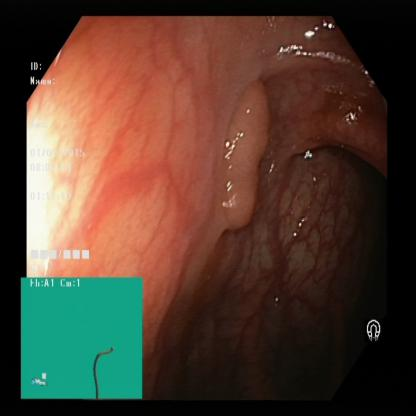Labels: (25, 55, 110, 282), (23, 279, 137, 396), (362, 314, 384, 348)
Polyps: (220, 94, 273, 232)
